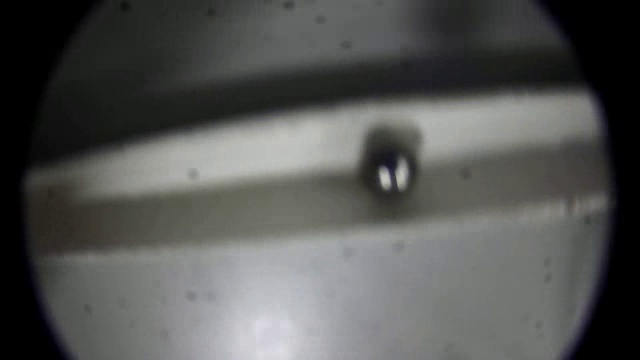gangzhu: (368, 146, 420, 195)
